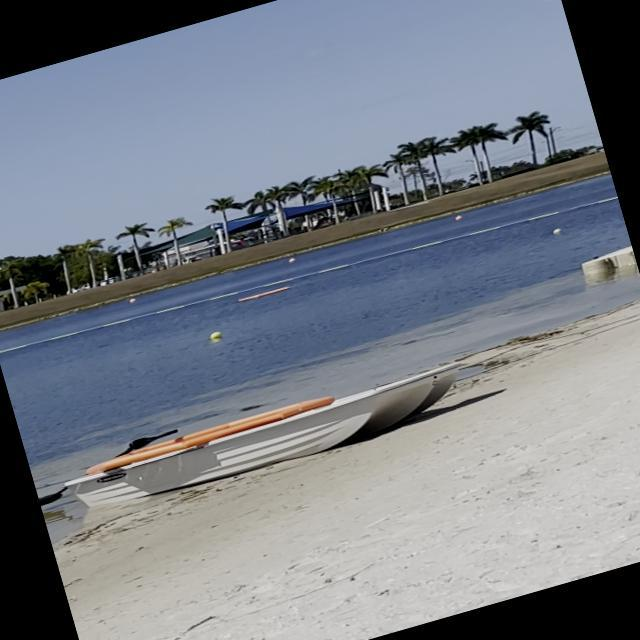buoy: (209, 329, 223, 339), (551, 226, 563, 234)
